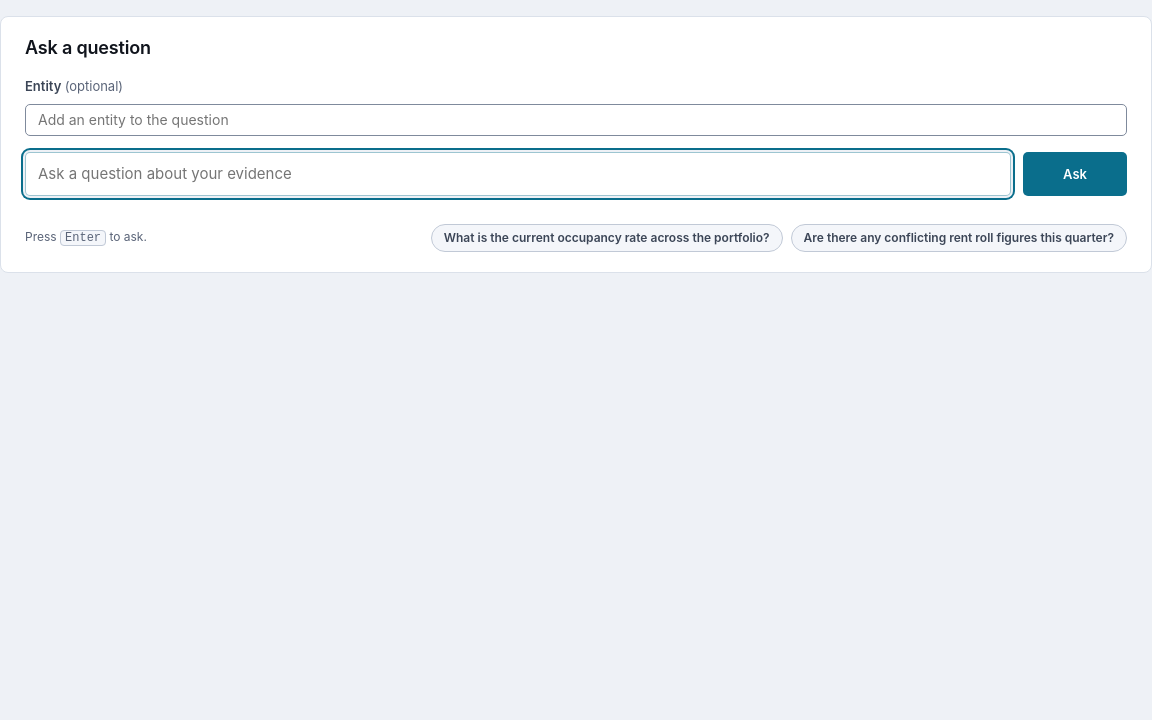
AnswerComposer › guards against a double submit while the button stays enabled and busy
In the field labelled "question": (518, 174) [25, 152, 1011, 196], type "Q"
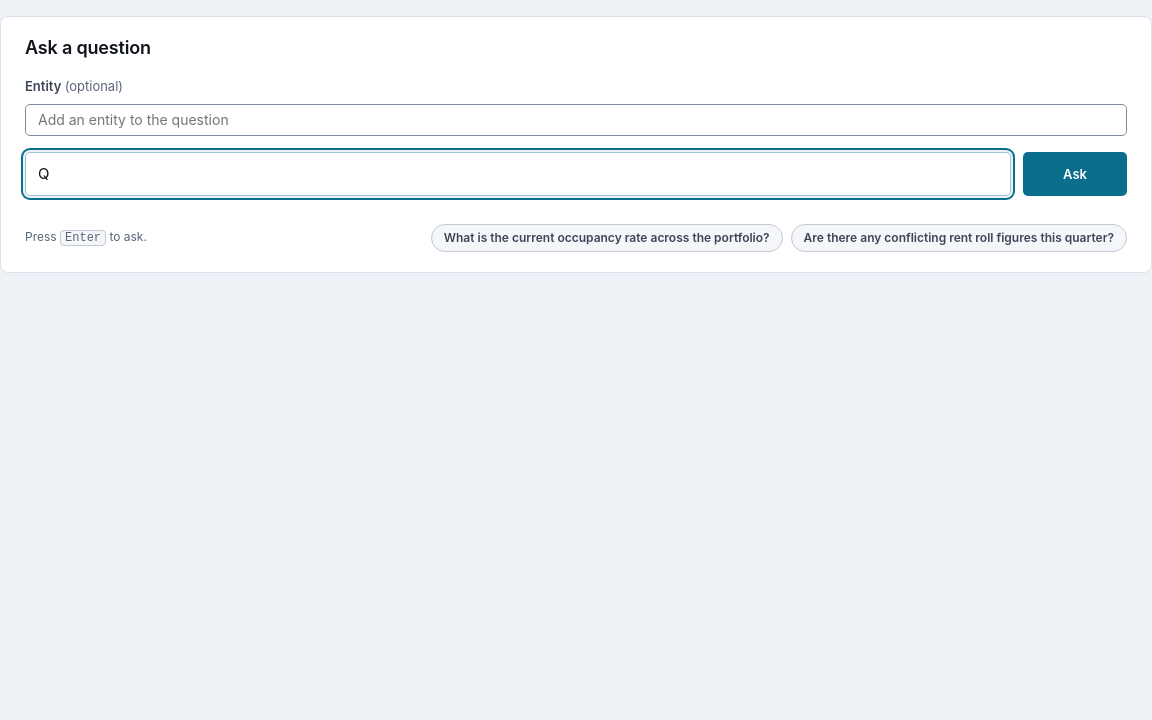
Click the button "Ask": (1075, 174) [1023, 152, 1127, 196]
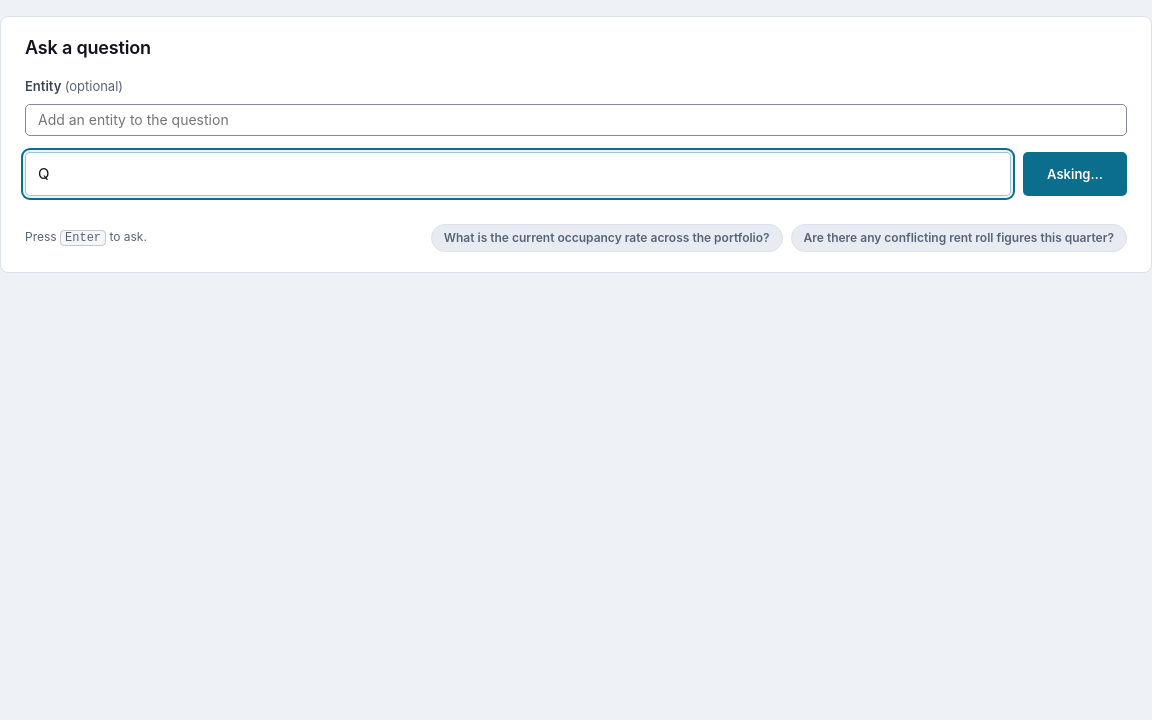
Click the button "Asking…": (1075, 174) [1023, 152, 1127, 196]
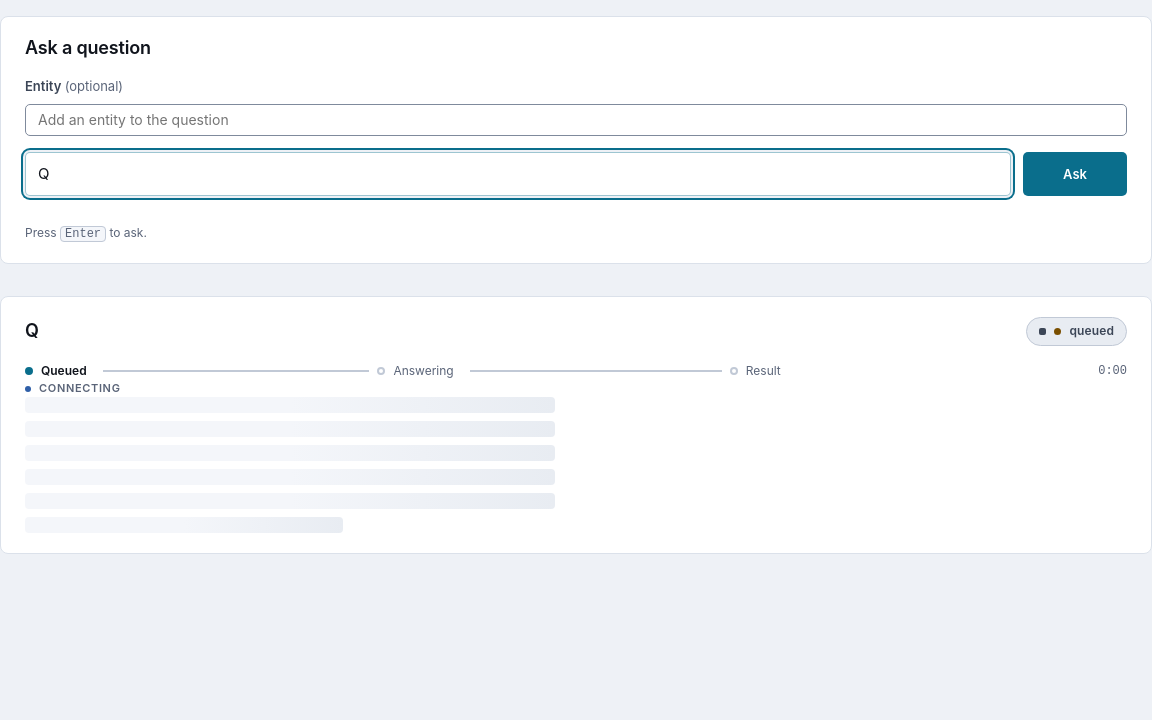
Expected: the text "queued" is shown, [1026, 317, 1127, 346]
